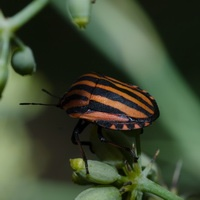insect: (20, 72, 158, 163)
